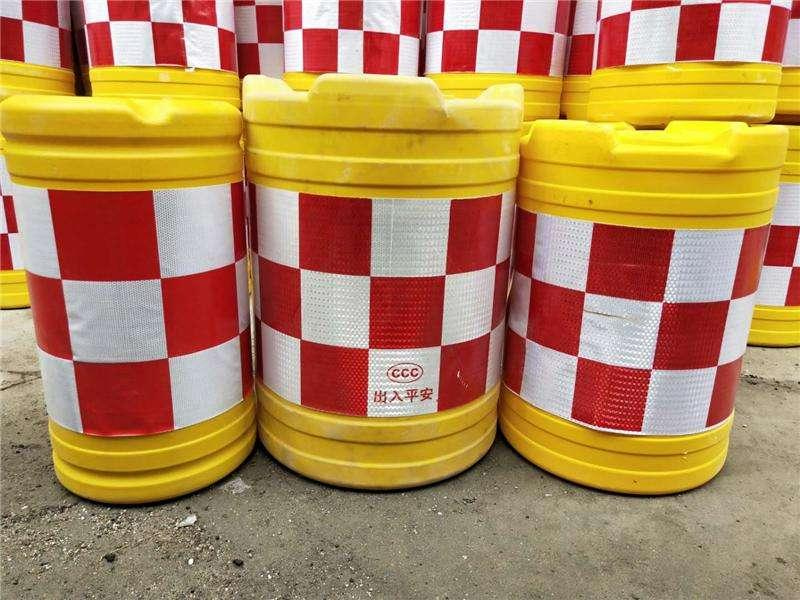sign: (239, 66, 525, 495), (1, 73, 262, 508), (517, 110, 797, 506)
